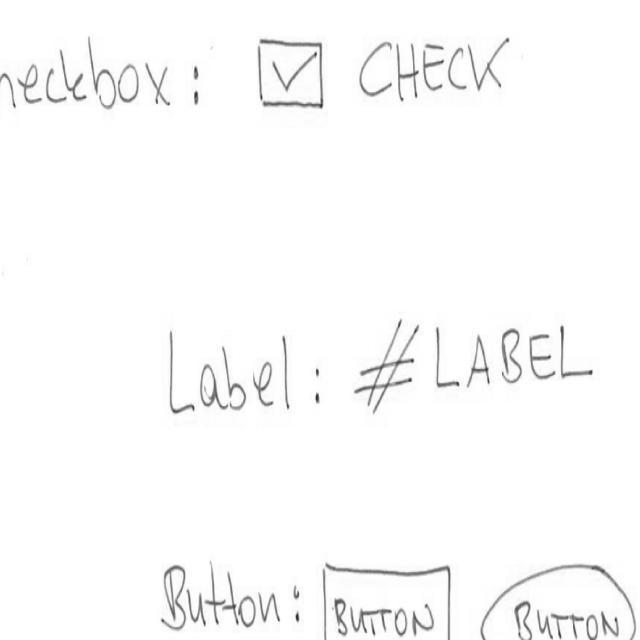button: (480, 561, 640, 640), (321, 558, 458, 640)
checkbox: (257, 31, 519, 113)
label: (353, 314, 601, 420)
